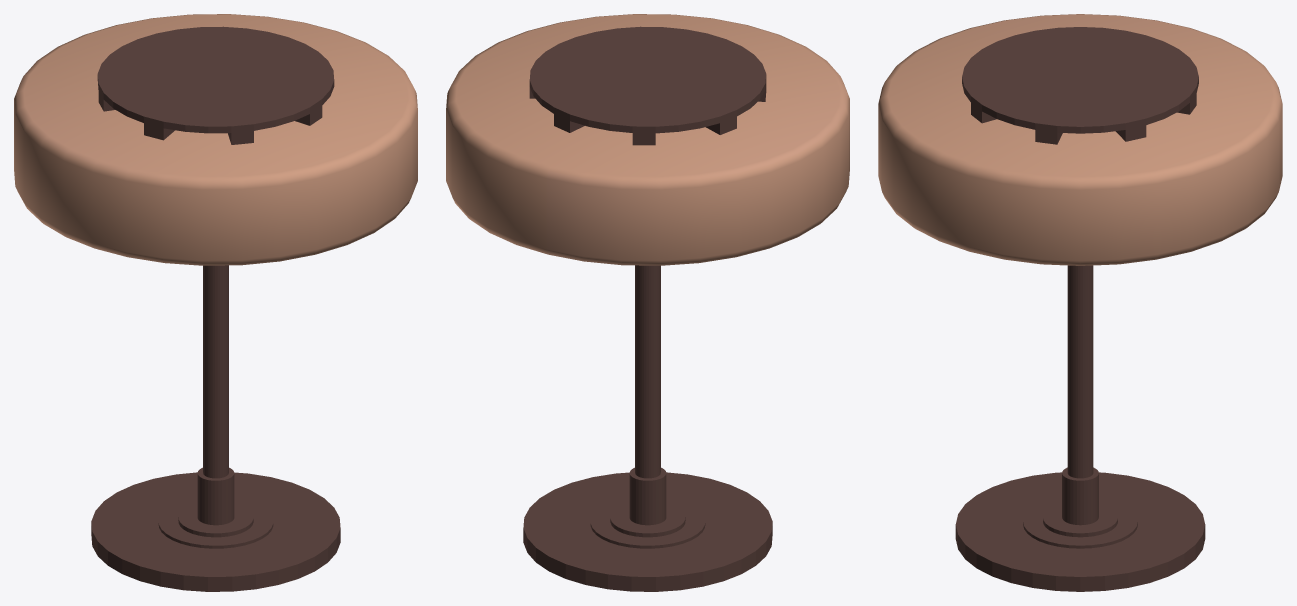
Rendered from LampDesk.fbx.
The picture shows the model from 3 angles, left to right: view 1: azimuth 30°, elevation 25°; view 2: azimuth 150°, elevation 25°; view 3: azimuth 270°, elevation 25°; orthographic projection.
Visible parts, largest first — view 1: LampBottom; view 2: LampBottom; view 3: LampBottom.
Boxes of the visible parts, <box> form: LampBottom: <box>14,14,417,591</box>; LampBottom: <box>446,14,849,591</box>; LampBottom: <box>878,14,1282,591</box>.
Size of the model in its own units: 91.01 by 115 by 91.01.
